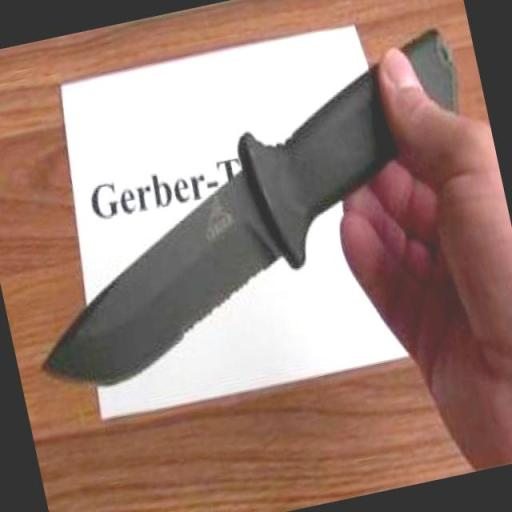knife: (0, 23, 506, 398)
